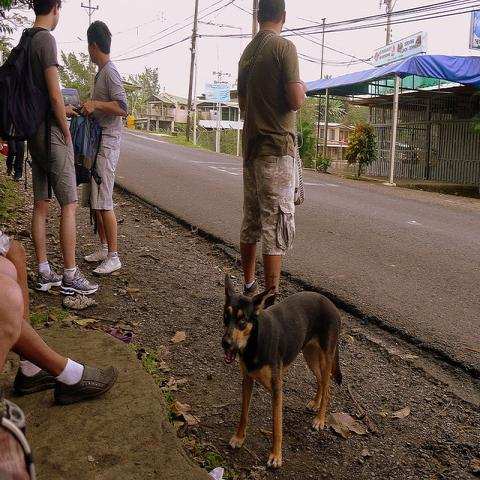bus: (62, 88, 80, 107)
